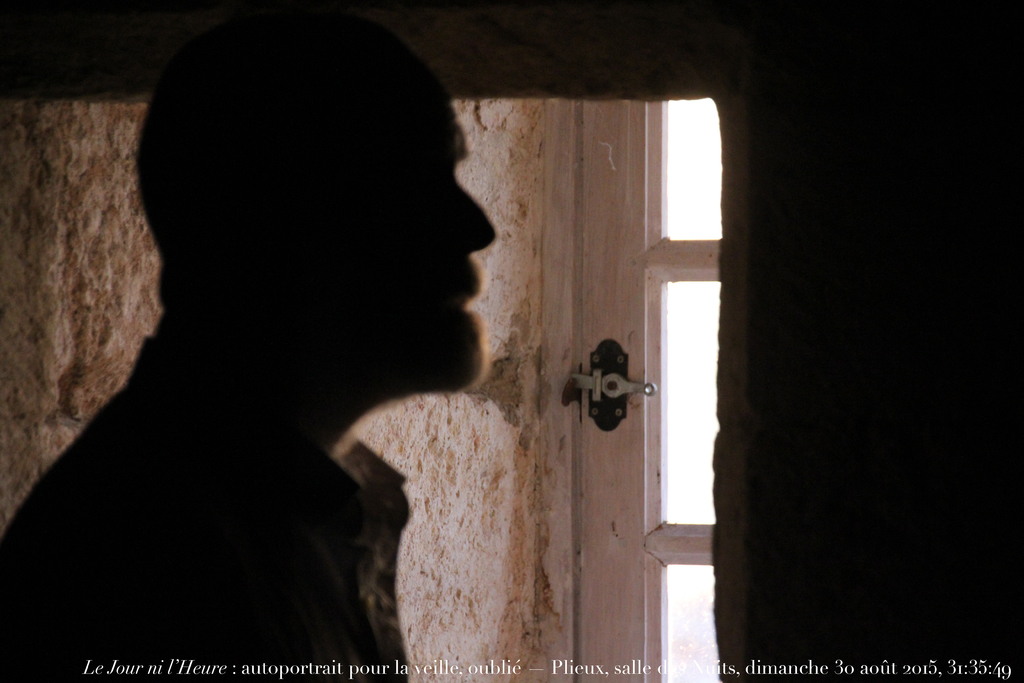door: (580, 119, 710, 672)
handle: (571, 371, 653, 414)
